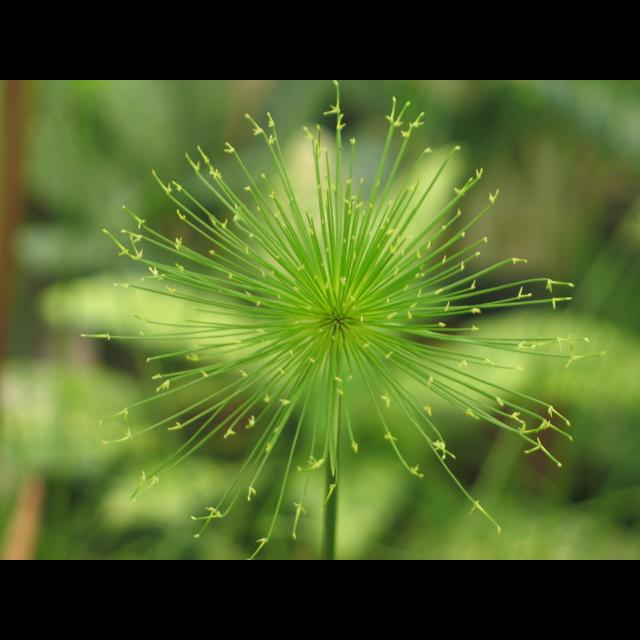Flower: (105, 94, 540, 508)
